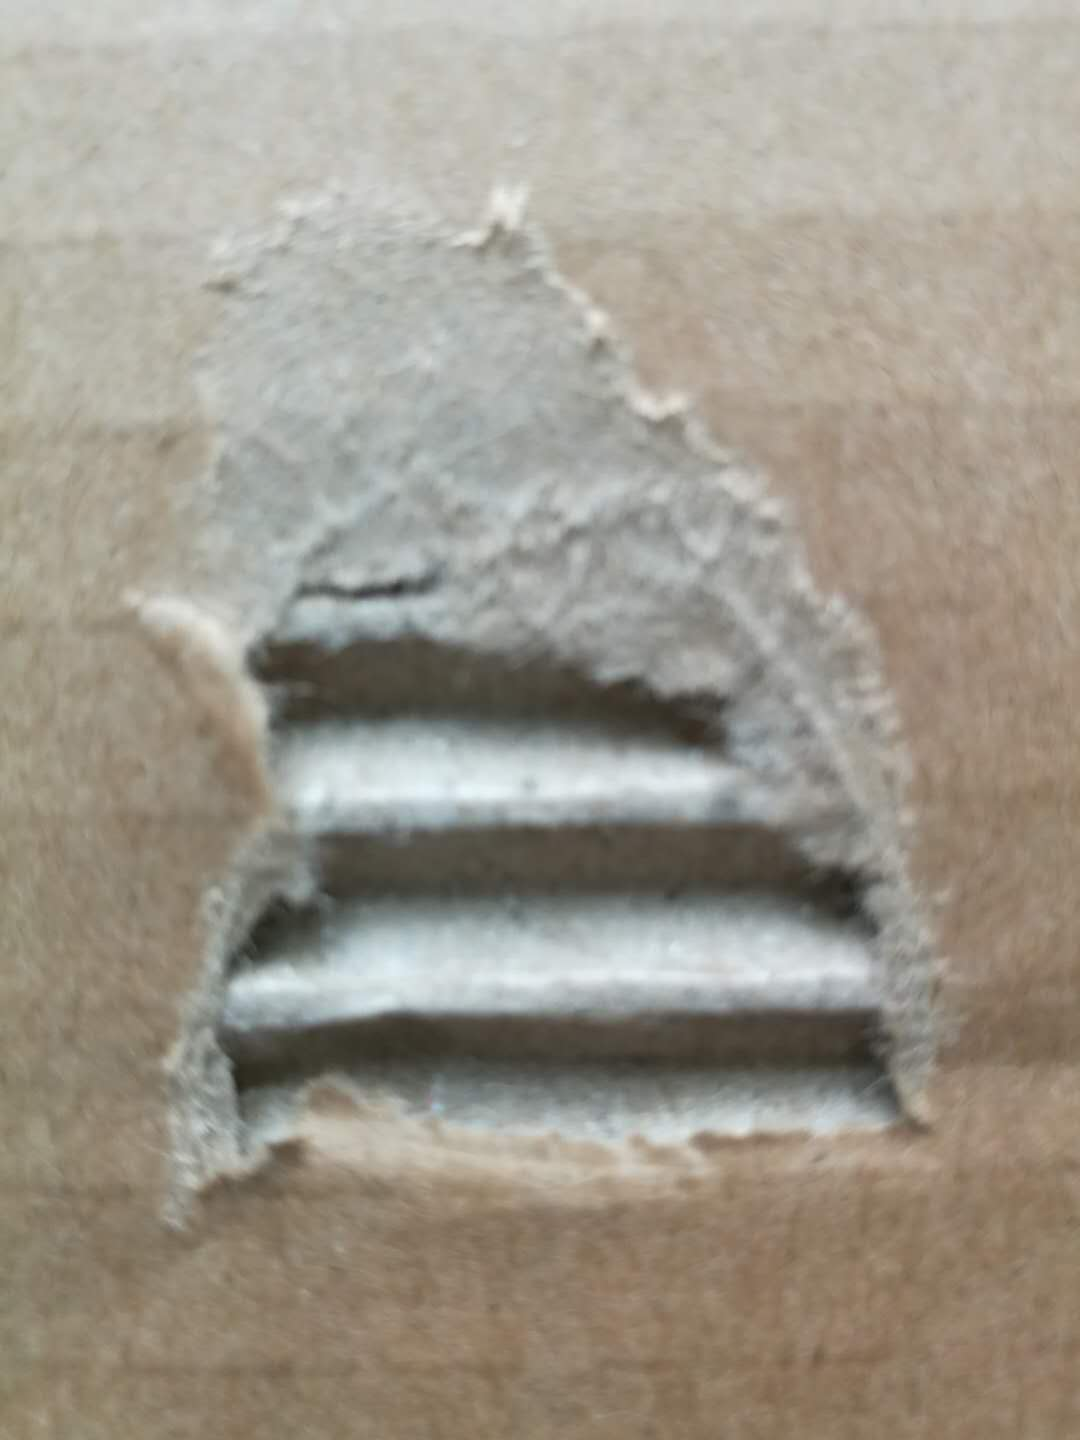defect: (75, 121, 1009, 1278)
